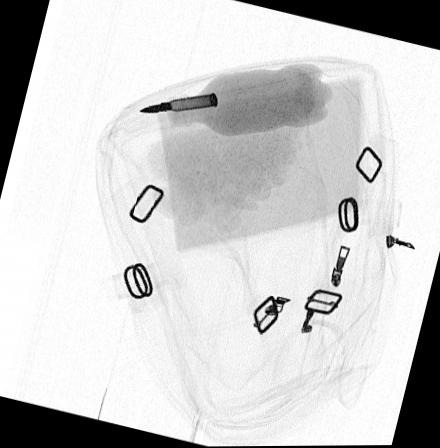Bullet: (137, 92, 218, 114)
